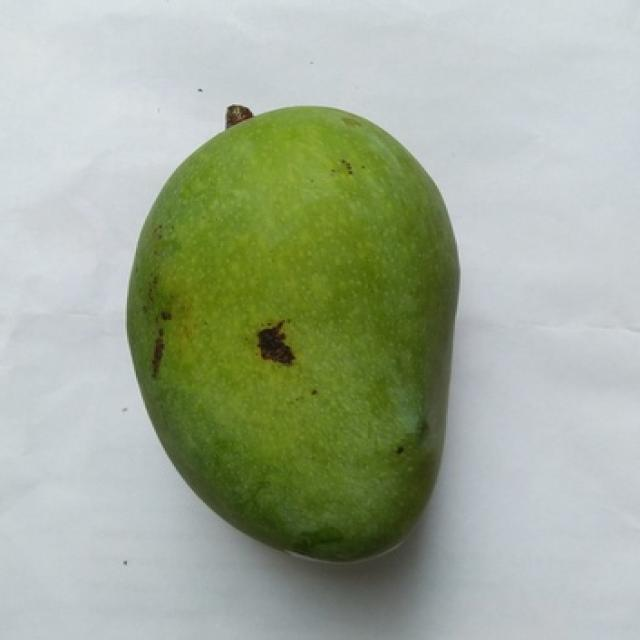Mango: (127, 107, 457, 560)
